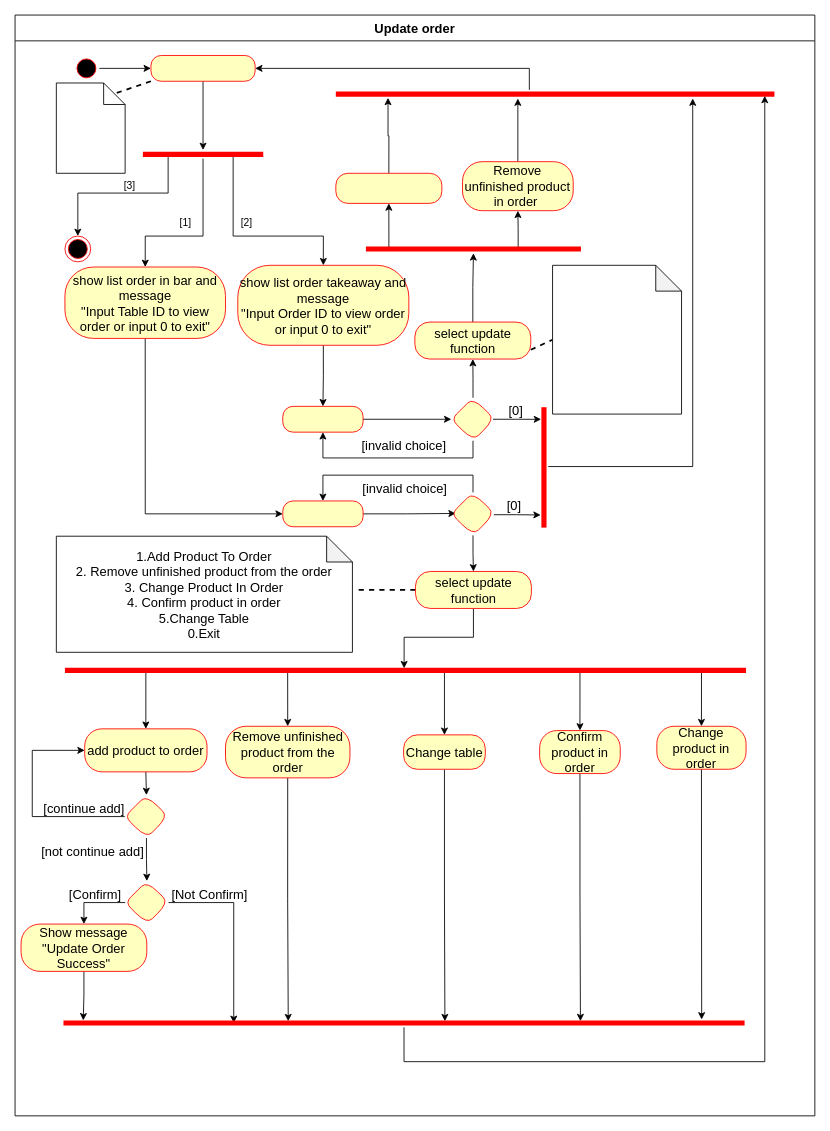
Some shapes in this 830 by 1131 pixel diagram are drawn without their labels. Each missing label, with the box of its shape:
1. Drink at the Coffee Shop 2. Take Away Orders 3.Exit: (55, 82, 125, 173)
1. Remove unfinished product from the order 2. Confirm product in order 3.Exit: (552, 264, 682, 414)
Confirm products in order: (335, 172, 442, 203)
input order id: (282, 405, 363, 432)
input table id: (282, 500, 363, 527)
select order type: (150, 55, 255, 81)
